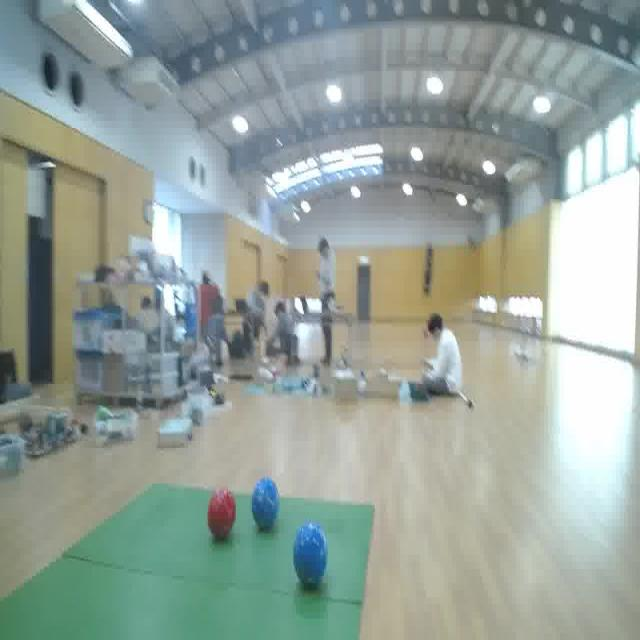blue_ball: (293, 520, 330, 590), (248, 475, 279, 529)
red_ball: (206, 480, 237, 541)
